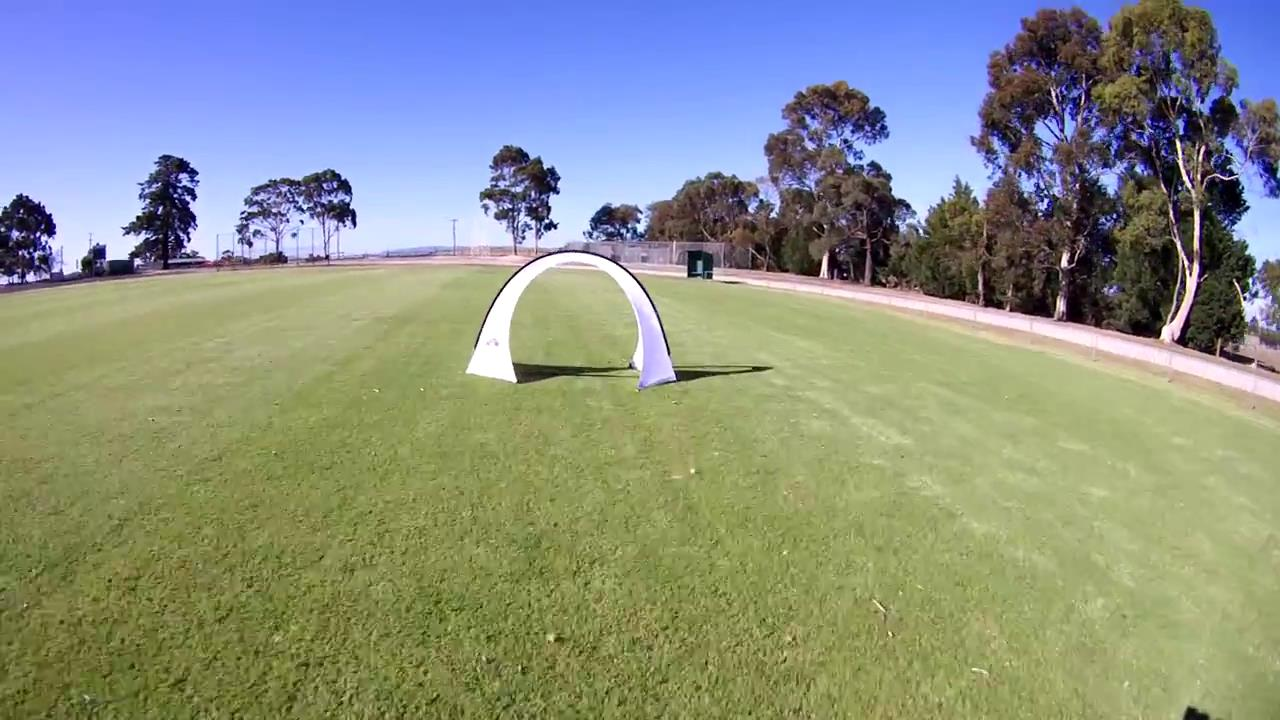gate: (462, 248, 683, 391)
